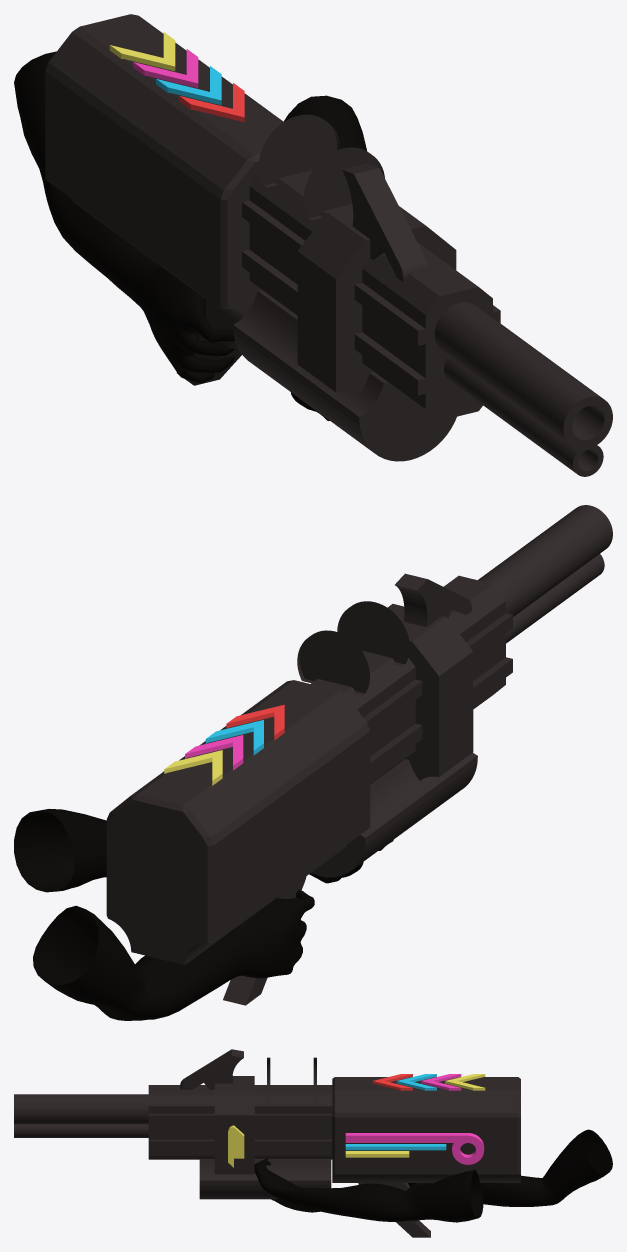
File: Blaster.obj
3 views of the same model, one above another, from view 1: azimuth 30°, elevation 25°; view 2: azimuth 150°, elevation 25°; view 3: azimuth 270°, elevation 25° (orthographic). The views are drawn at different scales.
Parts seen in each view (by area): view 1: Gun_Curve.001; view 2: Gun_Curve.001; view 3: Gun_Curve.001.
Boxes of the visible parts, <box> form: Gun_Curve.001: <box>14,14,612,476</box>; Gun_Curve.001: <box>14,505,612,1020</box>; Gun_Curve.001: <box>14,1049,612,1237</box>.
Bounding box in the file's own units: 0.3913 × 0.475 × 1.44.
